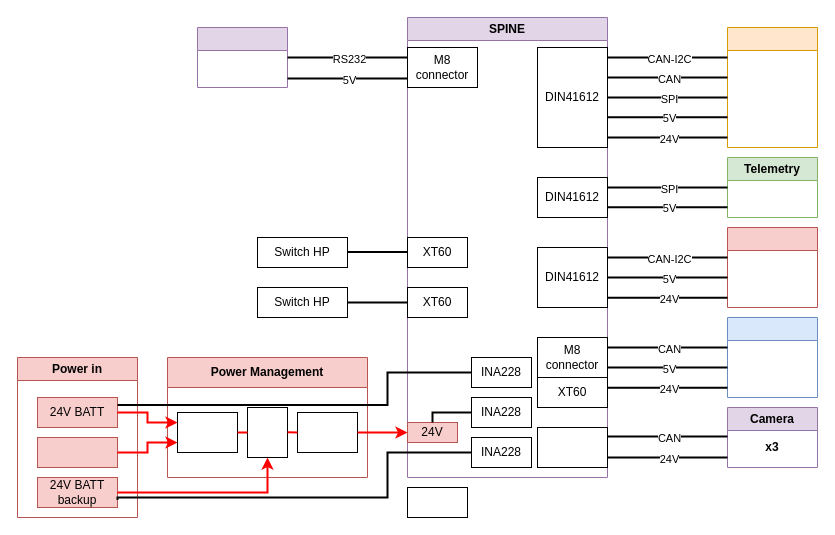
This 835x535 diagram has some shape labels left out. The centre of each missing label's shape, as x and y in pixels:
"24V PFS" belongs at (77,452).
"FC" belongs at (772,87).
"FDR" belongs at (242,57).
"LEDs" belongs at (437,502).
"LPSU" belongs at (772,267).
"LTC4020" belongs at (207,432).
"Molex Milligrid" belongs at (572,447).
"MUX" belongs at (267,432).
"Regulator" belongs at (327,432).
"Spinal Cable" belongs at (772,357).
